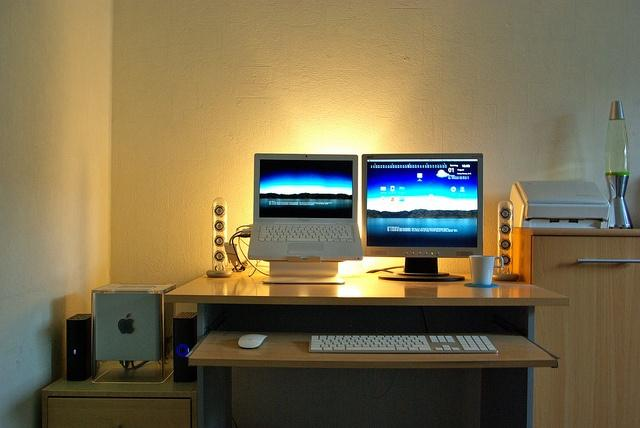AIO PC-Monitor-TV: (360, 152, 483, 261)
Printer: (507, 178, 612, 238)
